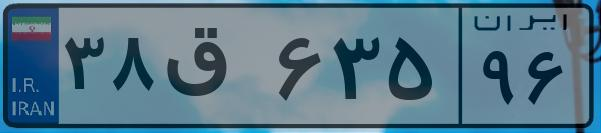3: (330, 28, 385, 110), (57, 26, 110, 100)
5: (385, 28, 445, 110)
6: (270, 28, 330, 110), (525, 38, 570, 115)
8: (110, 28, 158, 98)
9: (475, 38, 525, 113)
ق: (158, 20, 270, 120)
